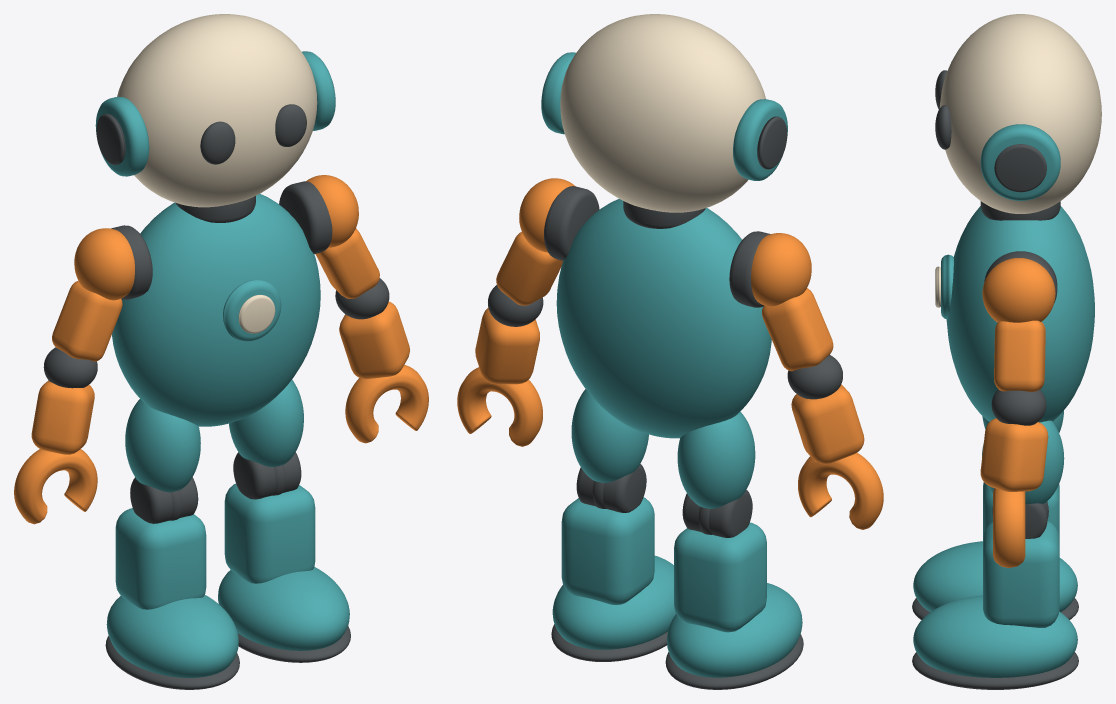
3 renders of one model, left to right at view 1: azimuth 30°, elevation 25°; view 2: azimuth 150°, elevation 25°; view 3: azimuth 270°, elevation 25°, orthographic. The views are drawn at different scales.
Parts seen in each view (by area): view 1: Torso • plump oval, Head • cream rounded dome, Boot -1, Boot 1, Shin -1, Shin 1, Upper leg -1, Upper leg 1, Forearm 1, Open claw -1, Upper arm -1, Forearm -1 (+20 smaller); view 2: Torso • plump oval, Head • cream rounded dome, Shin -1, Shin 1, Boot -1, Boot 1, Upper leg -1, Upper leg 1, Forearm -1, Upper arm -1, Open claw -1, Forearm 1 (+16 smaller); view 3: Head • cream rounded dome, Torso • plump oval, Boot 1, Shin 1, Boot -1, Forearm 1, Orange shoulder 1, Upper arm 1, Ear turquoise housing 1, Open claw 1, Dark boot sole 1, Ear dark inset 1 (+9 smaller).
Part boxes in pixels (x1=…): Torso • plump oval: x1=112, y1=194, x2=320, y2=426; Head • cream rounded dome: x1=117, y1=14, x2=317, y2=207; Boot -1: x1=106, y1=595, x2=238, y2=677; Boot 1: x1=218, y1=567, x2=349, y2=650; Shin -1: x1=115, y1=508, x2=206, y2=609; Shin 1: x1=224, y1=483, x2=315, y2=583; Upper leg -1: x1=125, y1=399, x2=200, y2=492; Upper leg 1: x1=229, y1=379, x2=303, y2=466; Forearm 1: x1=339, y1=301, x2=409, y2=378; Open claw -1: x1=14, y1=449, x2=97, y2=524; Upper arm -1: x1=52, y1=280, x2=122, y2=361; Forearm -1: x1=31, y1=380, x2=94, y2=454; Torso • plump oval: x1=556, y1=199, x2=771, y2=438; Head • cream rounded dome: x1=560, y1=14, x2=765, y2=212; Shin -1: x1=674, y1=522, x2=766, y2=632; Shin 1: x1=561, y1=497, x2=654, y2=604; Boot -1: x1=666, y1=583, x2=802, y2=677; Boot 1: x1=552, y1=555, x2=676, y2=649; Upper leg -1: x1=677, y1=411, x2=755, y2=508; Upper leg 1: x1=571, y1=389, x2=648, y2=482; Forearm -1: x1=791, y1=384, x2=864, y2=464; Upper arm -1: x1=762, y1=288, x2=833, y2=371; Open claw -1: x1=798, y1=452, x2=883, y2=529; Forearm 1: x1=475, y1=308, x2=539, y2=384; Head • cream rounded dome: x1=939, y1=14, x2=1101, y2=213; Torso • plump oval: x1=946, y1=206, x2=1094, y2=422; Boot 1: x1=913, y1=595, x2=1077, y2=677; Shin 1: x1=983, y1=521, x2=1059, y2=627; Boot -1: x1=913, y1=541, x2=1077, y2=612; Forearm 1: x1=980, y1=418, x2=1048, y2=491; Orange shoulder 1: x1=982, y1=258, x2=1055, y2=322; Upper arm 1: x1=994, y1=320, x2=1045, y2=391; Ear turquoise housing 1: x1=980, y1=124, x2=1060, y2=200; Open claw 1: x1=993, y1=488, x2=1025, y2=567; Dark boot sole 1: x1=912, y1=652, x2=1078, y2=689; Ear dark inset 1: x1=994, y1=144, x2=1046, y2=192.
Size of the model in its own units: 4.13 by 6.03 by 1.66.
